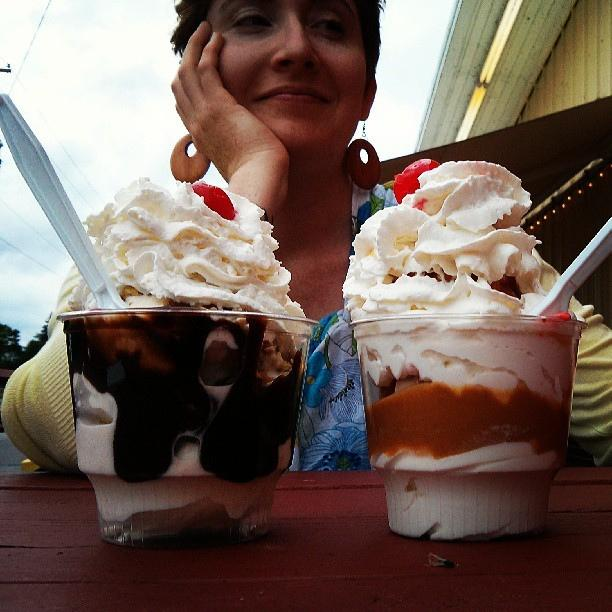cherry: (393, 159, 440, 204), (192, 184, 235, 220)
